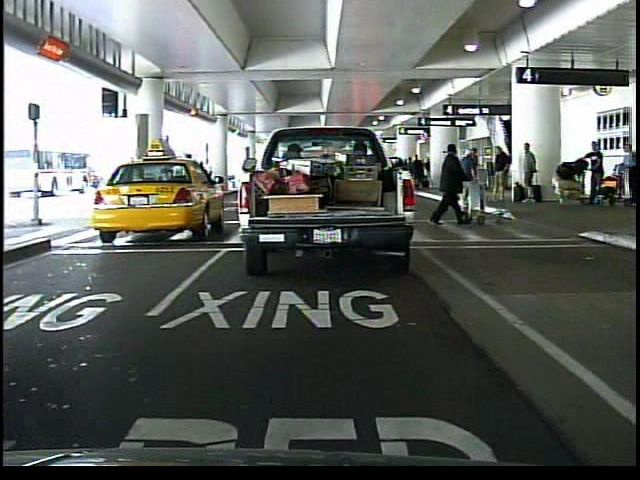person: (431, 142, 468, 231), (617, 139, 640, 208), (460, 147, 481, 222), (586, 140, 607, 193)
